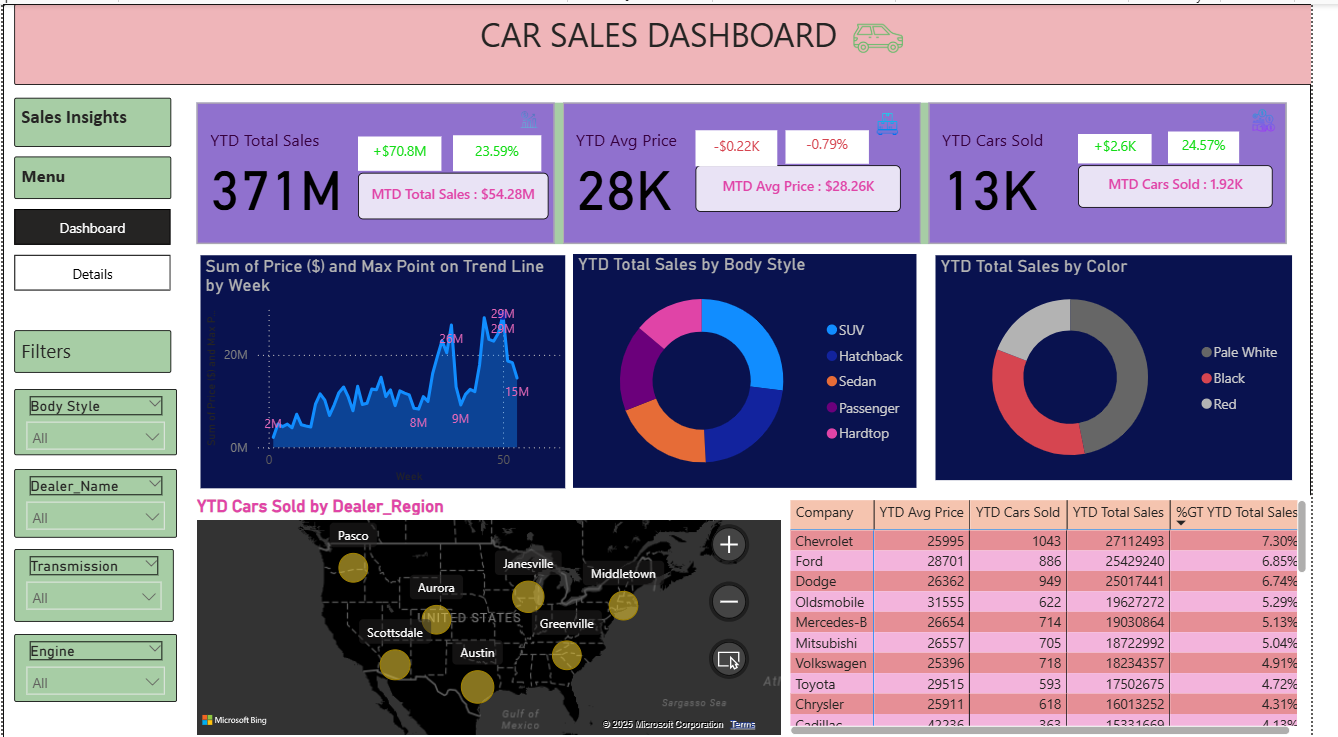

What the dashboard file says about the page in this screenshot:
{"tool":"powerbi","page":{"name":"Dashboard","canvas":[1280,720],"ordinal":0},"visuals":[{"type":"textbox","box":[10.5,0,1269.8,79.1],"z":0},{"type":"image","box":[502.5,0,707.5,67.5],"z":1000},{"type":"textbox","box":[10.5,91.9,153.5,47.7],"z":2000},{"type":"textbox","box":[10.5,318.6,153.5,41.9],"z":3000},{"type":"textbox","box":[10.5,148.8,153.5,41.9],"z":4000},{"type":"pageNavigator","box":[10.5,200,153.5,80.2],"z":5000},{"type":"slicer","fields":{"Values":["car sales.Dealer_Name"]},"box":[10.5,454.7,159.3,67.4],"z":6000},{"type":"slicer","fields":{"Values":["car sales.Transmission"]},"box":[10.5,532.6,155.8,70.9],"z":7000},{"type":"slicer","fields":{"Values":["car sales.Engine"]},"box":[10.5,616.3,159.3,66.3],"z":8000},{"type":"slicer","fields":{"Values":["car sales.Body Style"]},"box":[10.5,376.7,159.3,65.1],"z":9000},{"type":"cardVisual","fields":{"Data":["car sales.YTD Total Sales","car sales.YTD Avg Price","car sales.YTD Cars Sold"]},"box":[184.9,91.9,1077.9,148.8],"z":10000},{"type":"card","fields":{"Values":["car sales.MTD Conc"]},"box":[347.7,165.1,186,45.3],"z":11000},{"type":"card","fields":{"Values":["car sales.Sales Diff and Icon"]},"box":[347.7,129.1,81.4,33.7],"z":12000},{"type":"card","fields":{"Values":["car sales.YOY Sales Growth"]},"box":[440.7,127.9,86,34.9],"z":13000},{"type":"card","fields":{"Values":["car sales.MTD Avg Conc"]},"box":[677.9,158.1,201.2,45.3],"z":14000},{"type":"card","fields":{"Values":["car sales.Avg Diff and Icon"]},"box":[677.9,123.3,80.2,34.9],"z":15000},{"type":"card","fields":{"Values":["car sales.YOY Avg Growth"]},"box":[765.1,123.3,81.4,32.6],"z":16000},{"type":"card","fields":{"Values":["car sales.MTD Cars Sold Conc"]},"box":[1051.2,158.1,190.7,41.9],"z":17000},{"type":"card","fields":{"Values":["car sales.Cars Diff and Icon"]},"box":[1051.2,126.7,72.1,29.1],"z":18000},{"type":"card","fields":{"Values":["car sales.YOY Cars Sold Growth"]},"box":[1139.5,124.4,69.8,31.4],"z":19000},{"type":"image","box":[490.7,98.8,48.8,27.9],"z":20000},{"type":"image","box":[836,101.2,58.1,32.6],"z":21000},{"type":"image","box":[1204.7,97.7,58.1,32.6],"z":22000},{"type":"areaChart","fields":{"Category":["Calendar table.Week"],"Y":["car sales.Price ($)","car sales.Max Point on Trend Line"]},"box":[193,245.3,357,227.9],"z":23000},{"type":"donutChart","fields":{"Category":["car sales.Body Style"],"Y":["car sales.YTD Total Sales"]},"box":[558.1,244.2,336,229.1],"z":24000},{"type":"donutChart","fields":{"Category":["car sales.Color"],"Y":["car sales.YTD Total Sales"]},"box":[912.8,245.3,348.8,219.8],"z":25000},{"type":"map","fields":{"Category":["car sales.Dealer_Region"],"Size":["car sales.YTD Cars Sold"]},"box":[184.9,480.2,414,224.4],"z":26000},{"type":"pivotTable","fields":{"Rows":["car sales.Company"],"Values":["car sales.YTD Avg Price","car sales.YTD Cars Sold","car sales.YTD Total Sales1","car sales.YTD Total Sales"]},"box":[623.3,480.2,618.6,239.5],"z":27000}]}

Visuals, with their boxes in screenshot pixels (x1, y1, x2, y2), scaled from the page's 1280x720 canvas onto the 1338x737 screenshot:
textbox: BBox(11, 0, 1337, 81)
image: BBox(525, 0, 1265, 69)
textbox: BBox(11, 94, 171, 143)
textbox: BBox(11, 326, 171, 369)
textbox: BBox(11, 152, 171, 195)
pageNavigator: BBox(11, 205, 171, 287)
slicer - car sales.Dealer_Name: BBox(11, 465, 177, 534)
slicer - car sales.Transmission: BBox(11, 545, 174, 618)
slicer - car sales.Engine: BBox(11, 631, 177, 699)
slicer - car sales.Body Style: BBox(11, 386, 177, 452)
cardVisual - car sales.YTD Total Sales x car sales.YTD Avg Price: BBox(193, 94, 1320, 246)
card - car sales.MTD Conc: BBox(363, 169, 558, 215)
card - car sales.Sales Diff and Icon: BBox(363, 132, 449, 167)
card - car sales.YOY Sales Growth: BBox(461, 131, 551, 167)
card - car sales.MTD Avg Conc: BBox(709, 162, 919, 208)
card - car sales.Avg Diff and Icon: BBox(709, 126, 792, 162)
card - car sales.YOY Avg Growth: BBox(800, 126, 885, 160)
card - car sales.MTD Cars Sold Conc: BBox(1099, 162, 1298, 205)
card - car sales.Cars Diff and Icon: BBox(1099, 130, 1174, 159)
card - car sales.YOY Cars Sold Growth: BBox(1191, 127, 1264, 159)
image: BBox(513, 101, 564, 130)
image: BBox(874, 104, 935, 137)
image: BBox(1259, 100, 1320, 133)
areaChart - Calendar table.Week x car sales.Price ($): BBox(202, 251, 575, 484)
donutChart - car sales.Body Style x car sales.YTD Total Sales: BBox(583, 250, 935, 484)
donutChart - car sales.Color x car sales.YTD Total Sales: BBox(954, 251, 1319, 476)
map - car sales.Dealer_Region x car sales.YTD Cars Sold: BBox(193, 492, 626, 721)
pivotTable - car sales.Company x car sales.YTD Avg Price: BBox(652, 492, 1298, 736)
